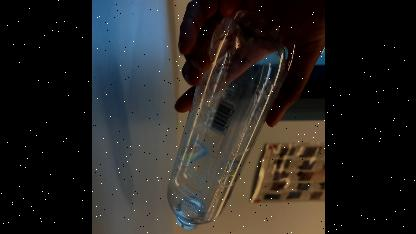Plastic Bottle: (157, 1, 295, 234)
